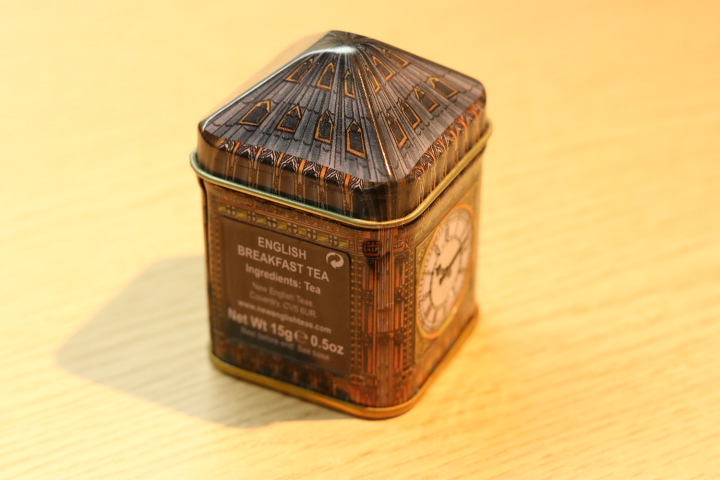Big Ben: (183, 22, 505, 441)
